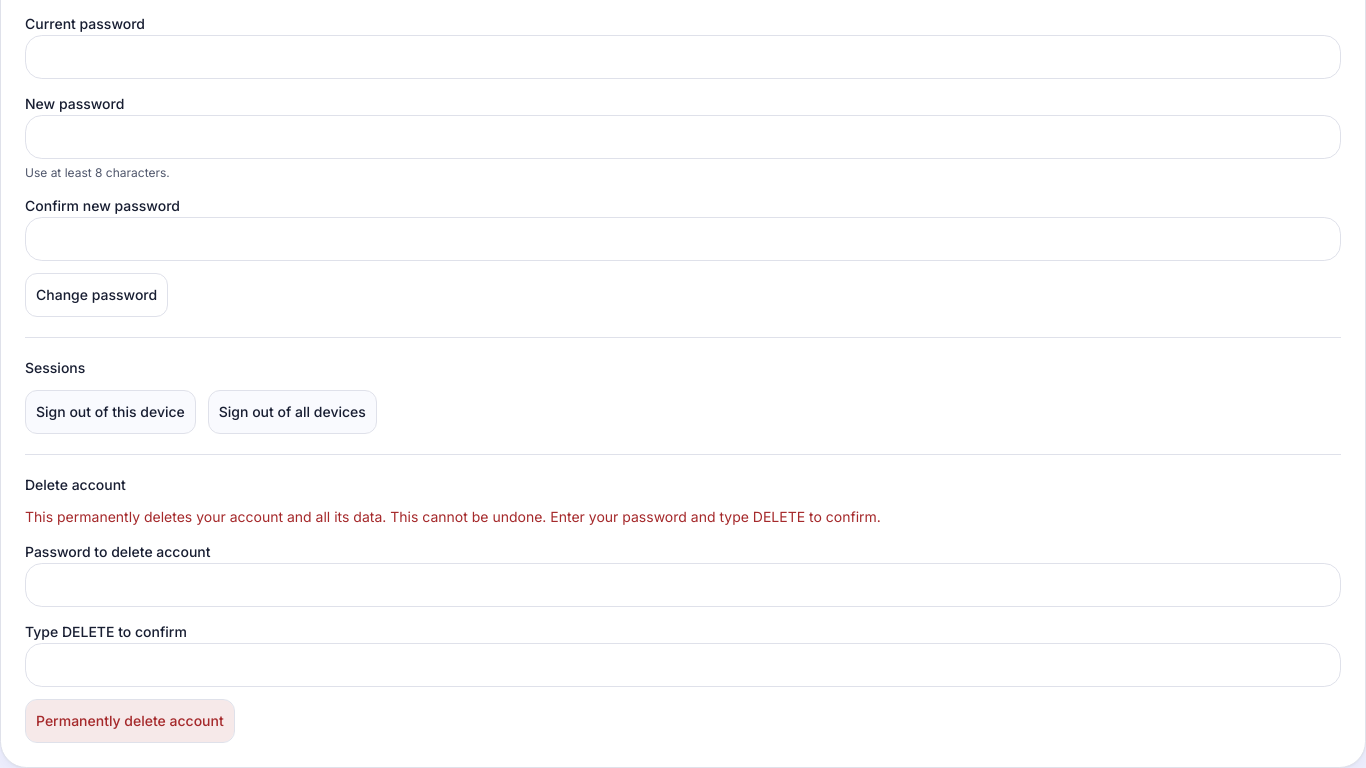
it: account security › shows backend message only for a safe client_reply (client_reply)
This screenshot has width=1366, height=768.
(page scrolled)
Step 1. Type "password123" into the password field labelled "Password to delete account" → (683, 585), box [25,563,1341,607]
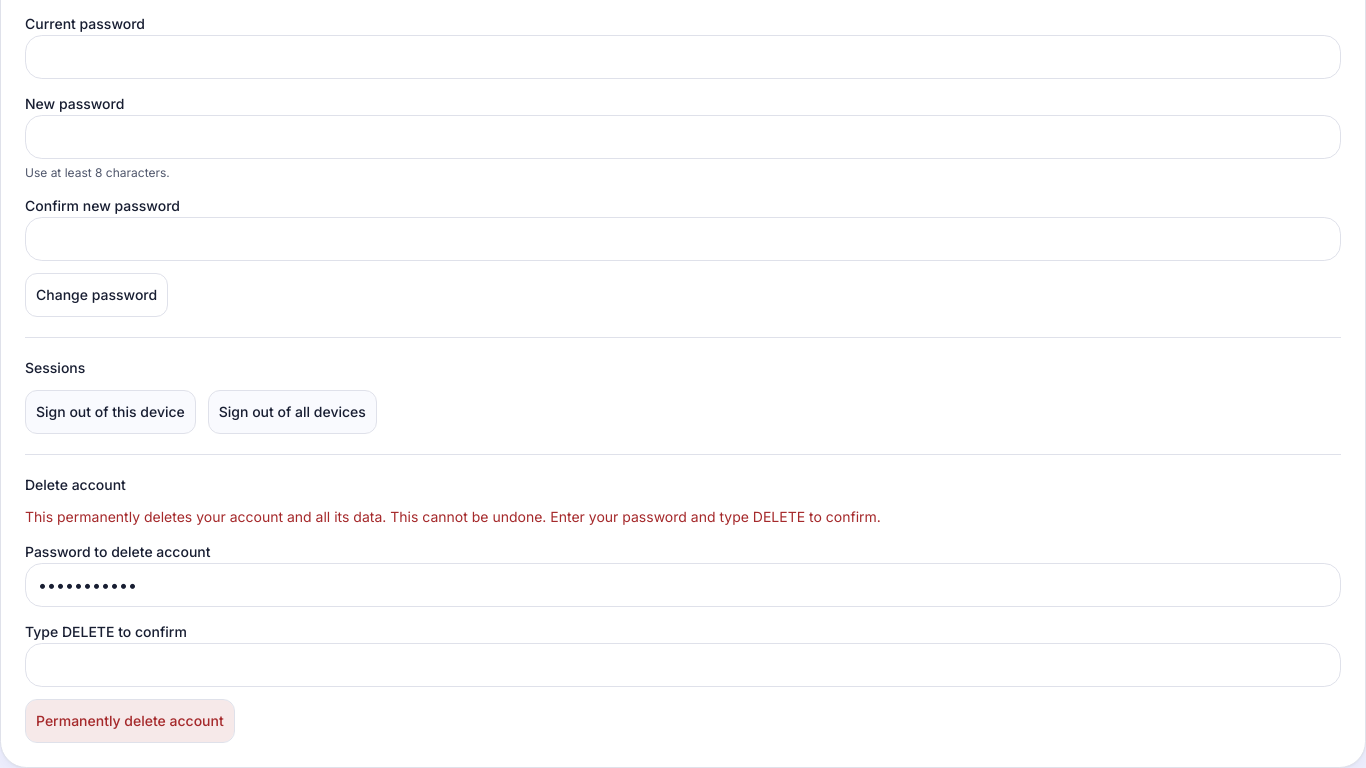
Step 2. Type "DELETE" into the field labelled "Type DELETE to confirm" → (683, 665), box [25,643,1341,687]
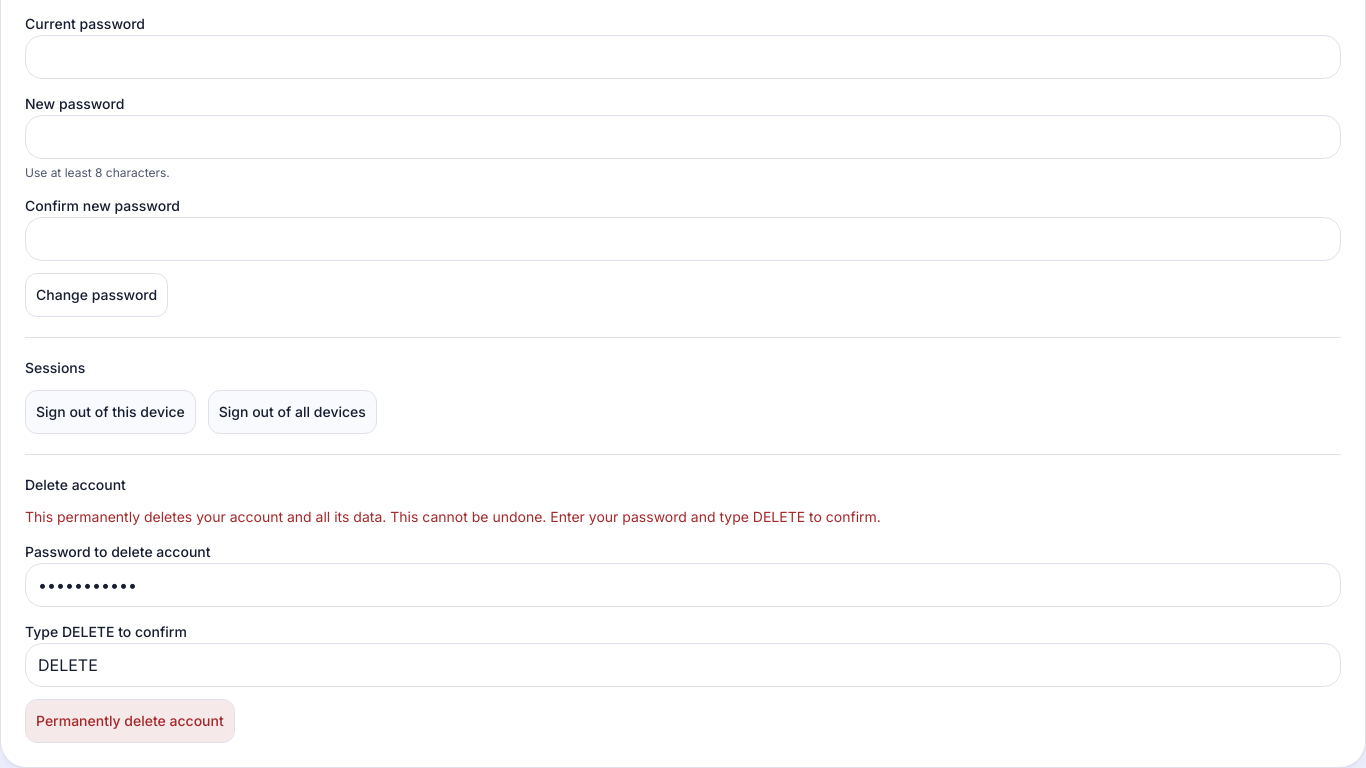
Step 3. Click the button "Permanently delete account" → (130, 721), box [25,699,235,743]
(page scrolled)
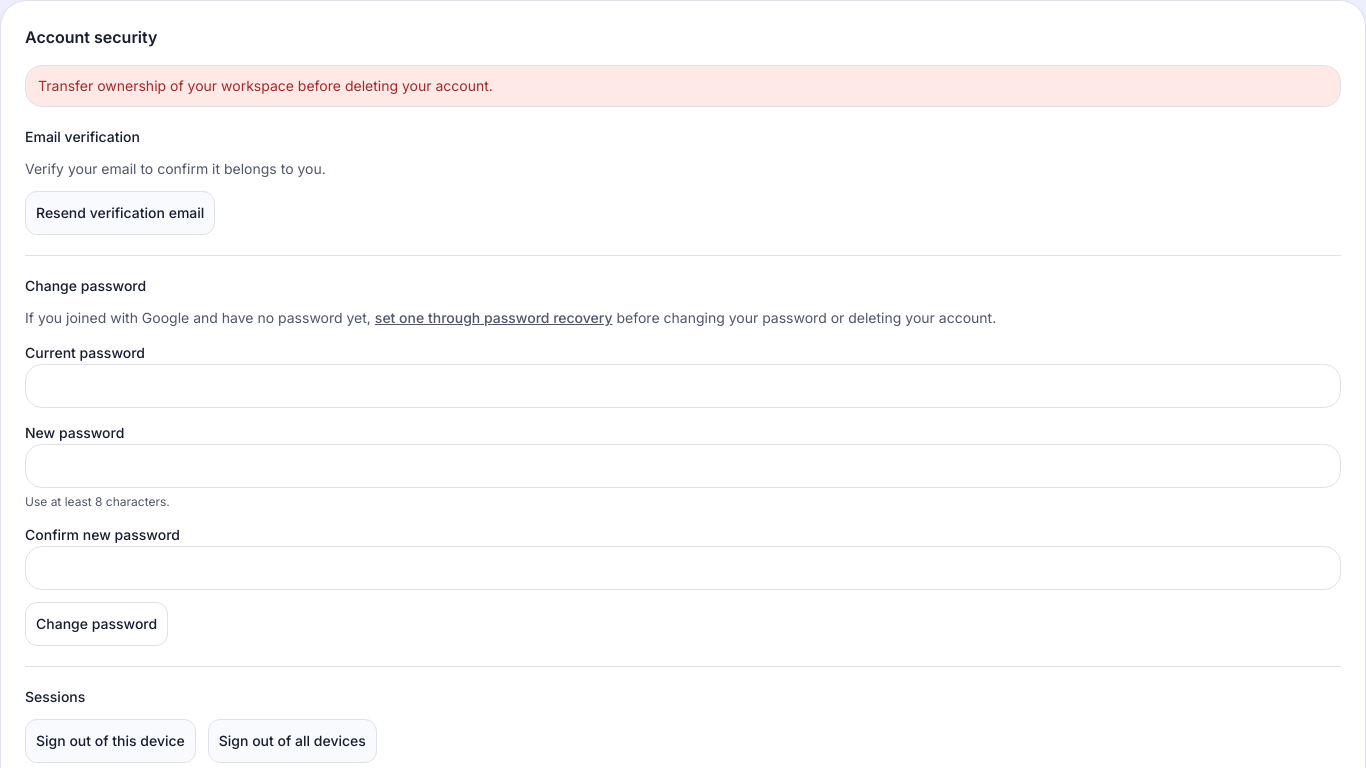
Result: the message reads "Transfer ownership of your workspace before deleting your account." at [38,77,493,94]
